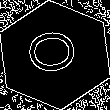O_E: (25, 31, 85, 79)
